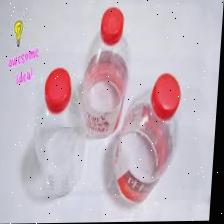plastic: (115, 75, 181, 204), (83, 8, 132, 138), (36, 88, 88, 200), (47, 68, 73, 114)
